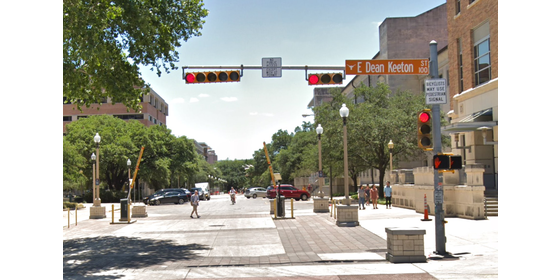bicyclists must use ped signal sign: (424, 79, 447, 104)
